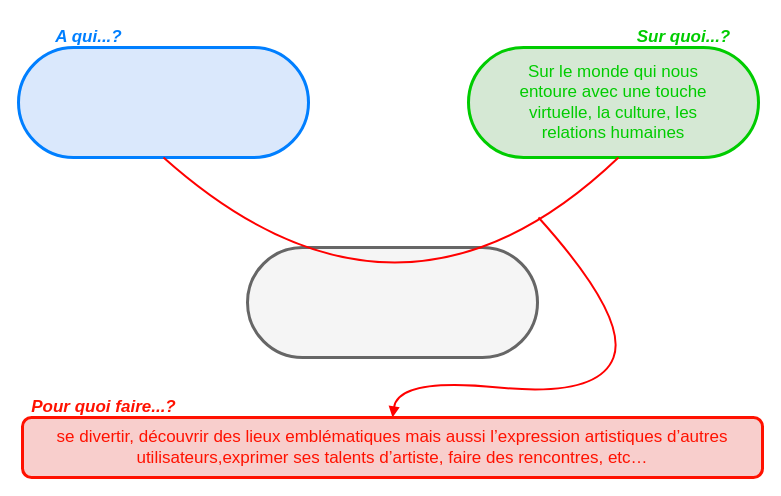
Some shapes in this 781 by 496 pixel diagram are drawn without their labels. Each missing label, with the centre of its shape:
Produit : Réseau social en AR, AR-tistic: the point at 392,302
Utilisateur: toutes tranches d'âges, tout sexe et principalement des artistes: the point at 163,102
